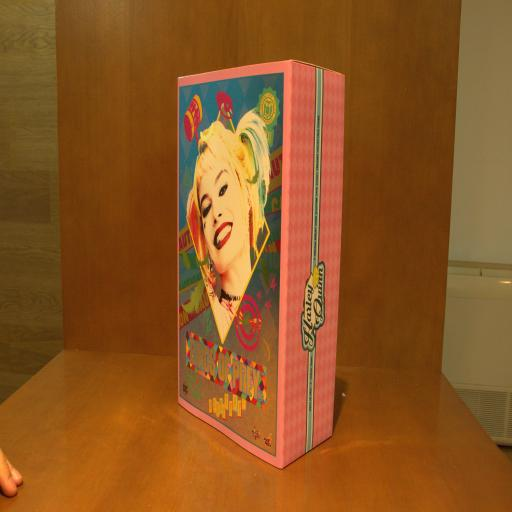Harley: (176, 58, 346, 469)
